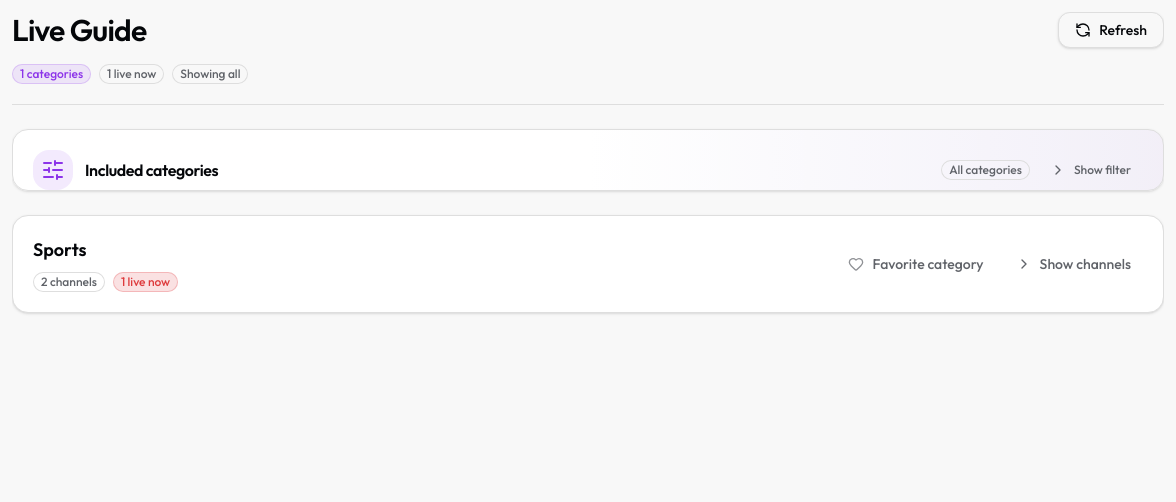
Test: GuidePage › automatically exhausts category pages when the PPV date filter is enabled
This screenshot has width=1176, height=502.
Click the button "Show channels": (1073, 264) [1004,246,1143,282]
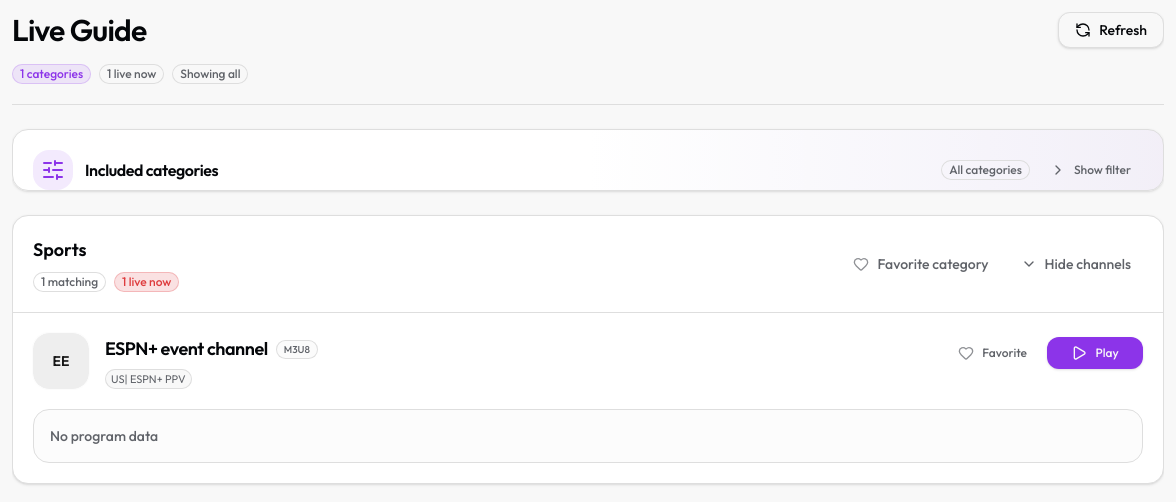
Expected: the heading "ESPN+ event channel" is shown, [105,335,268,363]
Expected: the text "1 matching" is shown, [33,272,106,292]
